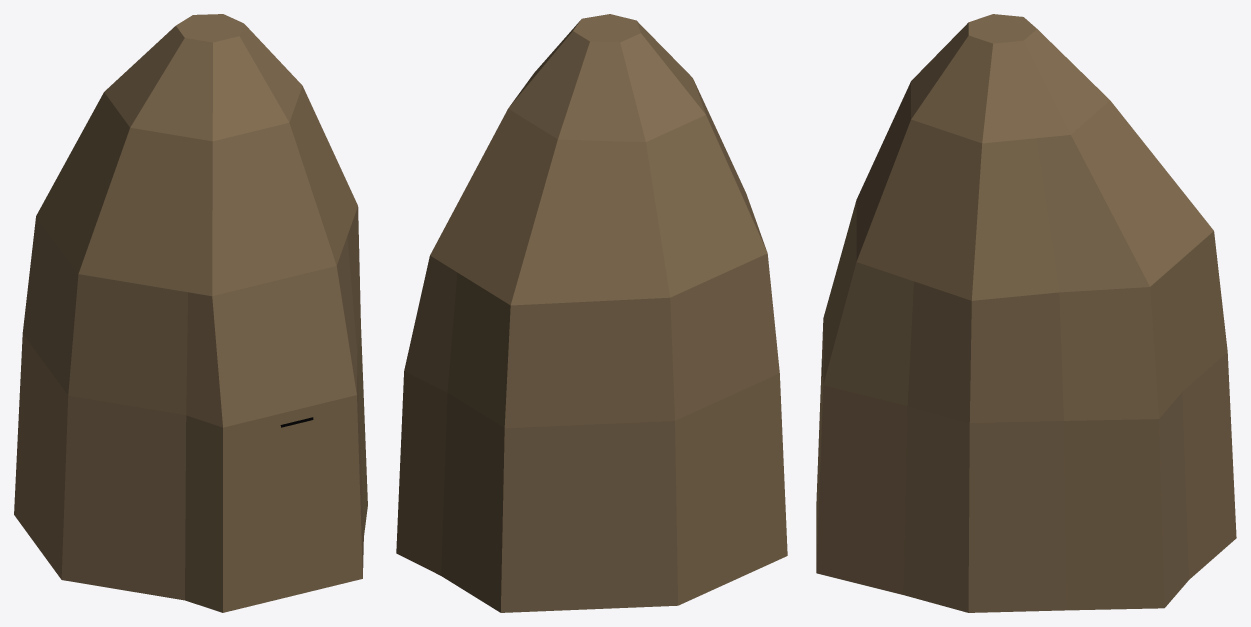
The model's file is room.glb.
The picture shows the model from 3 angles, left to right: view 1: azimuth 30°, elevation 25°; view 2: azimuth 150°, elevation 25°; view 3: azimuth 270°, elevation 25°; orthographic projection. The views are drawn at different scales.
Parts seen in each view (by area): view 1: Cylinder; view 2: Cylinder; view 3: Cylinder.
Boxes of the visible parts, bbox=[...] form: Cylinder: bbox=[14, 14, 367, 612]; Cylinder: bbox=[396, 14, 787, 612]; Cylinder: bbox=[816, 14, 1236, 612].
Bounding box in the file's own units: 6.41 × 10 × 7.42.
